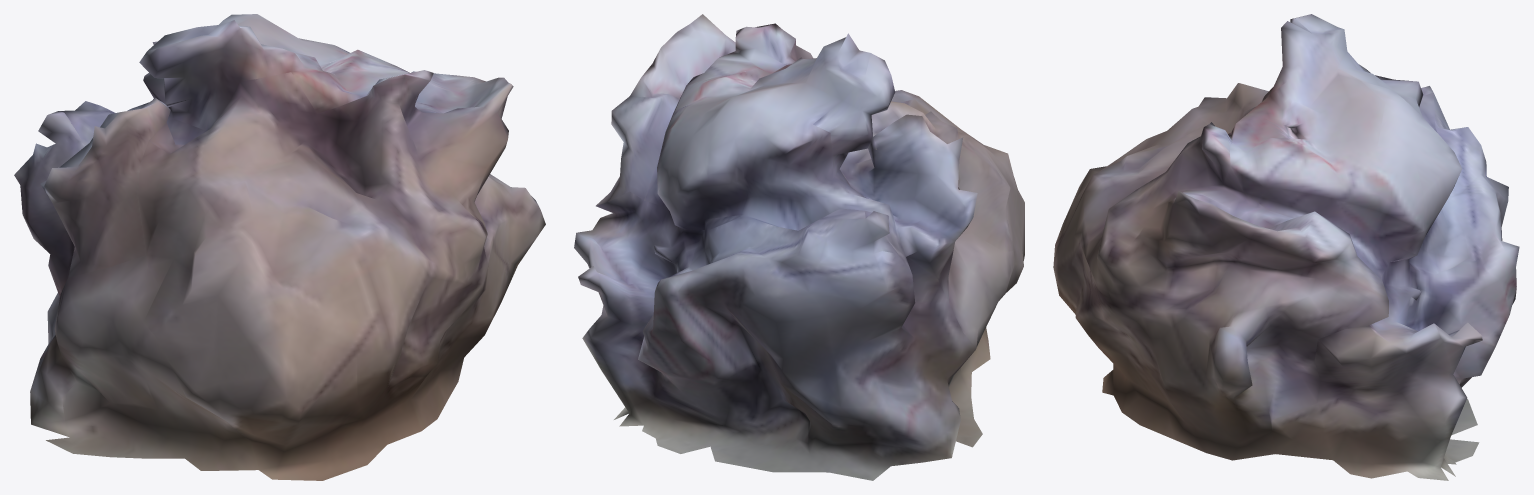
File: paper_wad.glb
3 renders of one model, left to right at view 1: azimuth 30°, elevation 25°; view 2: azimuth 150°, elevation 25°; view 3: azimuth 270°, elevation 25°, orthographic. The views are drawn at different scales.
Parts seen in each view (by area): view 1: Object_2; view 2: Object_2; view 3: Object_2.
Boxes of the visible parts, x1,y1,x2,y2 form: Object_2: [14, 14, 545, 480]; Object_2: [574, 14, 1024, 480]; Object_2: [1053, 14, 1519, 480].
Bounding box in the file's own units: 1.52 × 1.37 × 1.49.
Materials: 1 (1 with a texture image).
